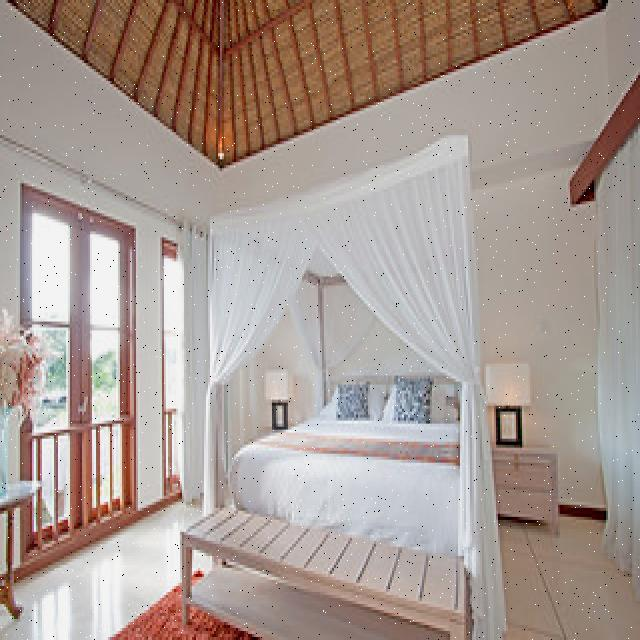bed: (228, 372, 499, 552)
